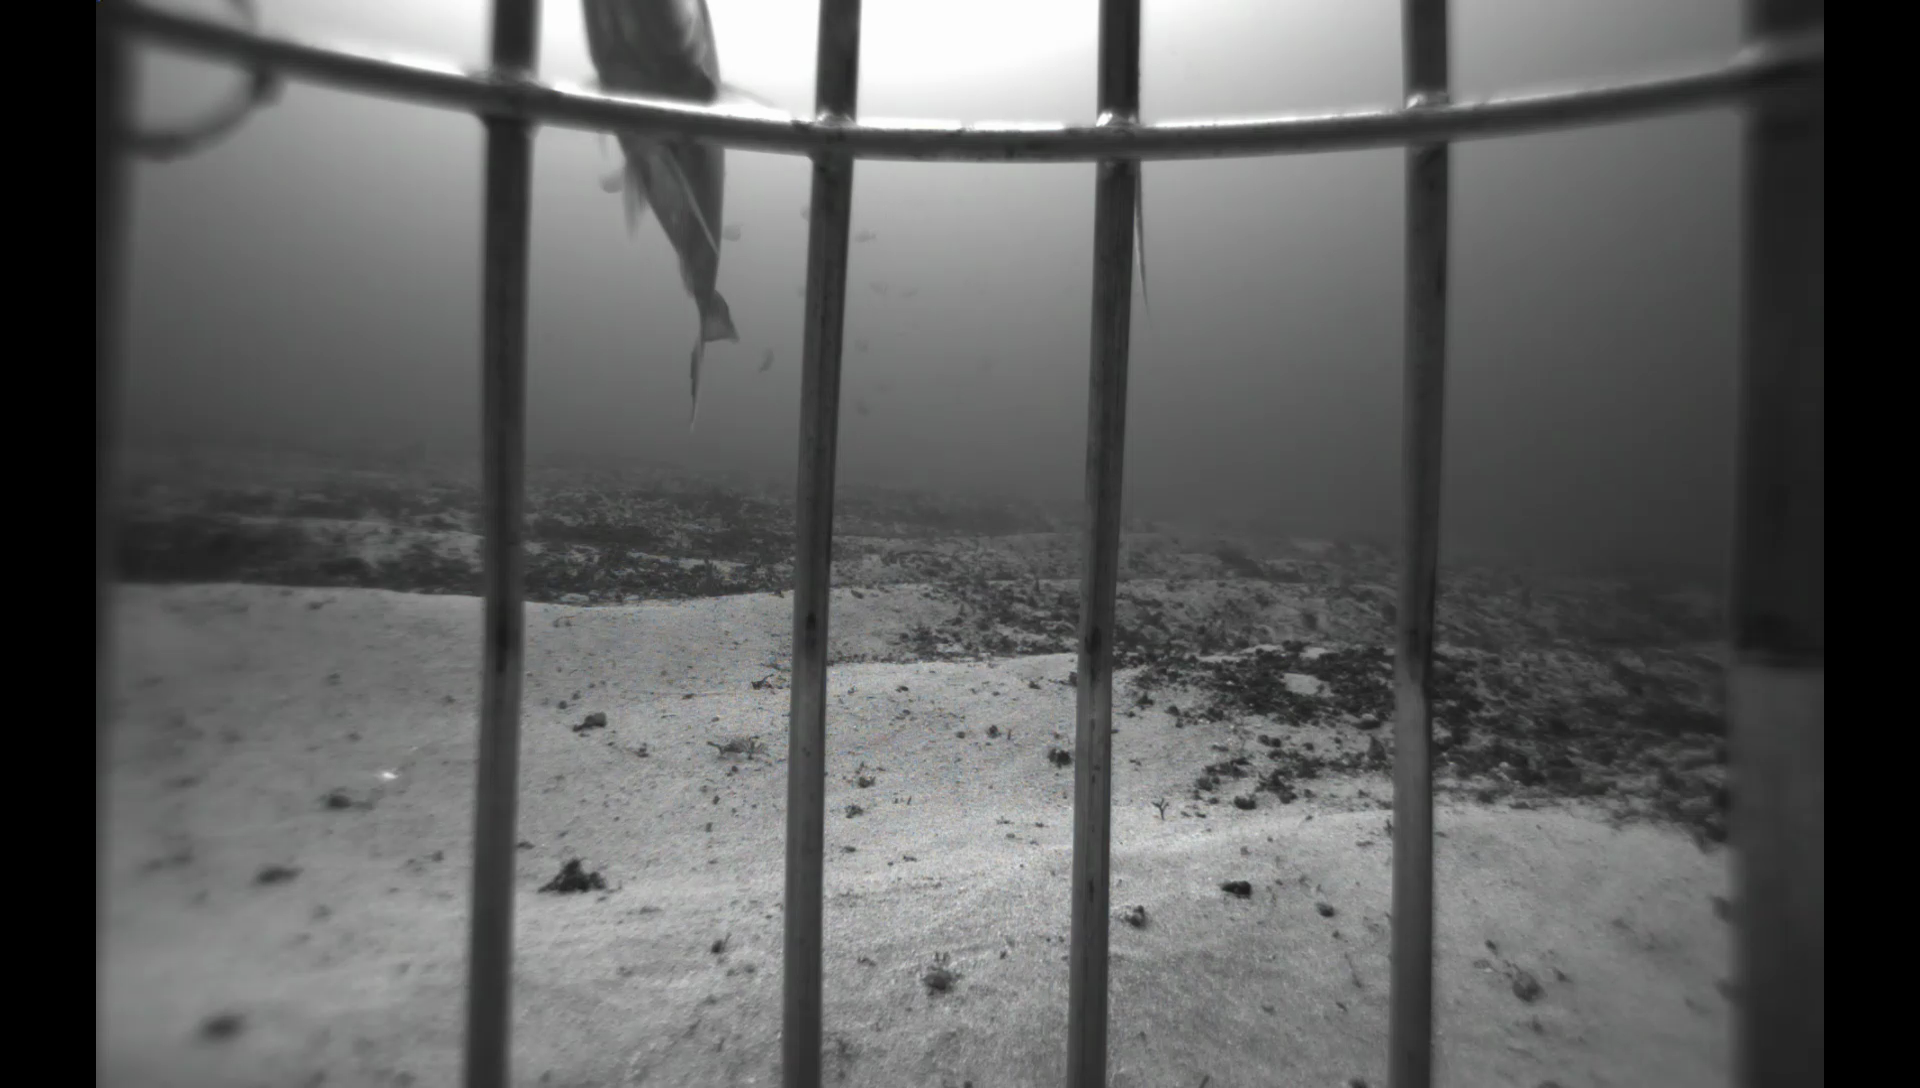PAGRUSPAGRUS-170212302: (555, 3, 803, 448)
SERIOLADUMERILI-170113101: (752, 340, 787, 378), (593, 164, 625, 196), (848, 224, 884, 247), (849, 334, 874, 357), (849, 397, 876, 419), (866, 277, 890, 301), (721, 222, 746, 244), (891, 284, 918, 305), (873, 377, 897, 400), (790, 278, 804, 299), (796, 198, 808, 223)
